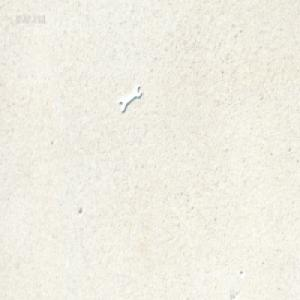Wrench: (119, 83, 141, 111)
